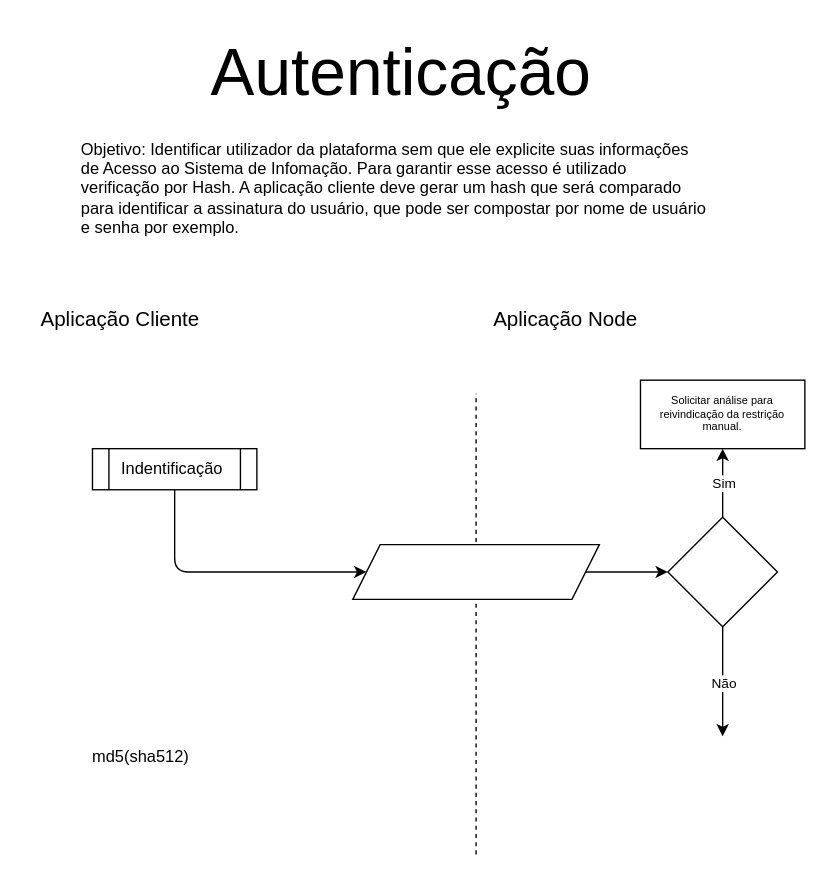
This 829x880 diagram has some shape labels left out. Each missing label, with the box of its shape:
Possui Restrição?: (667, 516, 777, 627)
Solicitação de Passe de Acesso: (351, 543, 599, 599)
